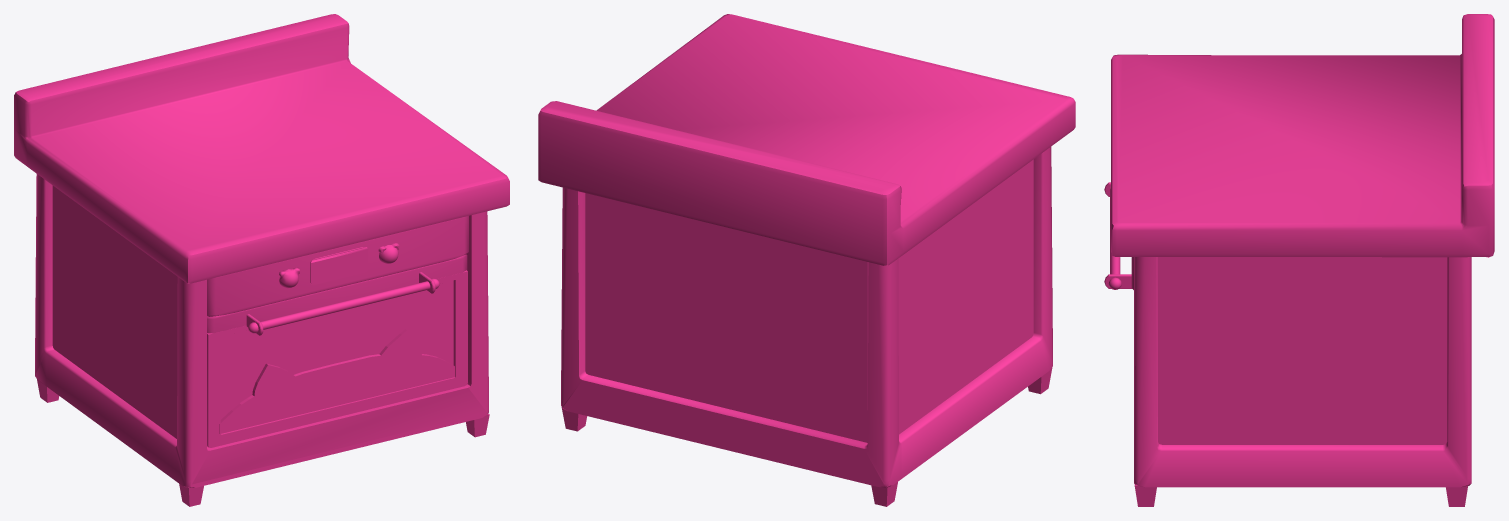
File: Modelling_Oven_object.FBX
The picture shows the model from 3 angles, left to right: view 1: azimuth 30°, elevation 25°; view 2: azimuth 150°, elevation 25°; view 3: azimuth 270°, elevation 25°; orthographic projection. The views are drawn at different scales.
Visible parts, largest first — view 1: Modelling_Oven_object; view 2: Modelling_Oven_object; view 3: Modelling_Oven_object.
Boxes of the visible parts, x1,y1,x2,y2 form: Modelling_Oven_object: (14,14,509,506); Modelling_Oven_object: (538,14,1075,506); Modelling_Oven_object: (1104,14,1494,506).
Bounding box in the file's own units: 139 × 123 × 132.
